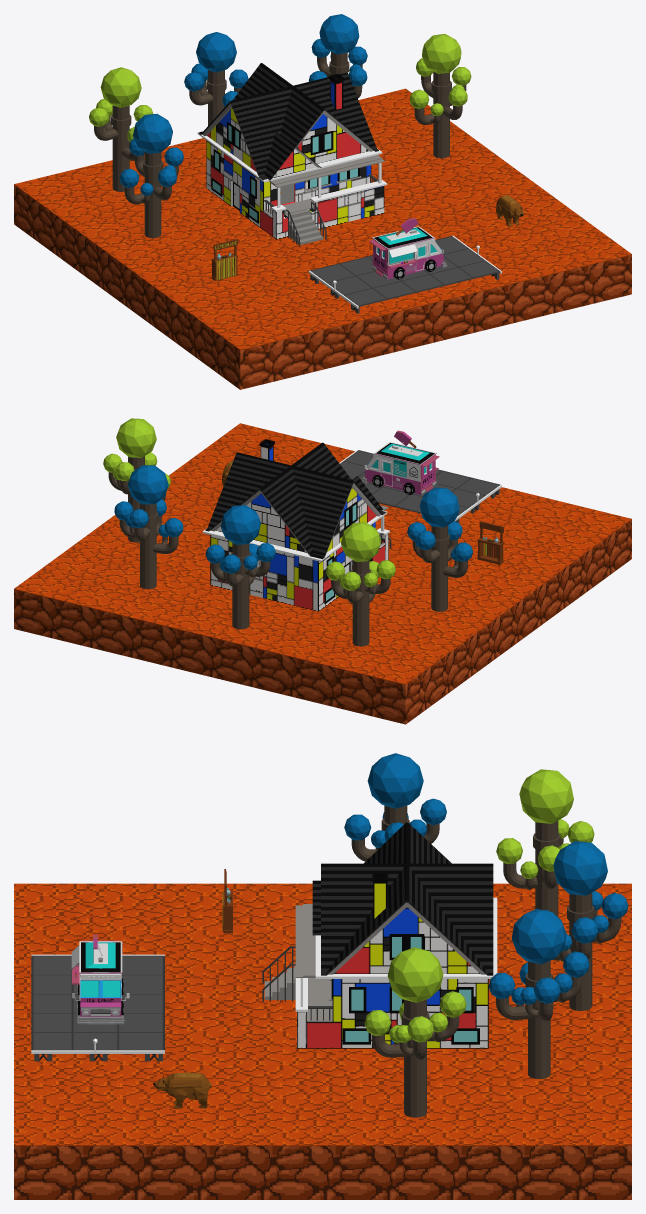
The picture shows the model from 3 angles, top to bottom: view 1: azimuth 30°, elevation 25°; view 2: azimuth 150°, elevation 25°; view 3: azimuth 270°, elevation 25°; orthographic projection. The views are drawn at different scales.
Visible parts, largest first — view 1: Cube.001, Cube.840, VEHICLES_ICE_CREAM_TRUCK, OBJRANDOM_LEMONADE_STAND, ANIMAL_OSO; view 2: Cube.001, Cube.840, VEHICLES_ICE_CREAM_TRUCK, OBJRANDOM_LEMONADE_STAND; view 3: Cube.001, Cube.840, VEHICLES_ICE_CREAM_TRUCK, ANIMAL_OSO.
Boxes of the visible parts, box(x1,y1,x2,y2) form: Cube.001: box(14, 14, 631, 389); Cube.840: box(197, 63, 387, 246); VEHICLES_ICE_CREAM_TRUCK: box(369, 218, 447, 279); OBJRANDOM_LEMONADE_STAND: box(211, 239, 237, 280); ANIMAL_OSO: box(496, 195, 524, 226); Cube.001: box(14, 418, 631, 724); Cube.840: box(202, 439, 391, 611); VEHICLES_ICE_CREAM_TRUCK: box(361, 430, 439, 494); OBJRANDOM_LEMONADE_STAND: box(477, 521, 503, 564); Cube.001: box(14, 753, 631, 1199); Cube.840: box(262, 822, 497, 1048); VEHICLES_ICE_CREAM_TRUCK: box(71, 934, 129, 1024); ANIMAL_OSO: box(153, 1072, 211, 1108).
Bounding box in the file's own units: 4000 × 1642 × 4000.
46 materials, 5 textured.
